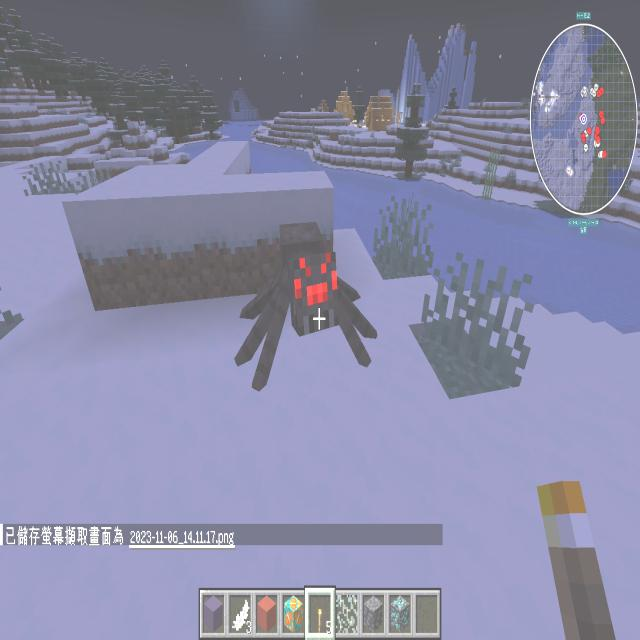Spider: (229, 209, 389, 401)
